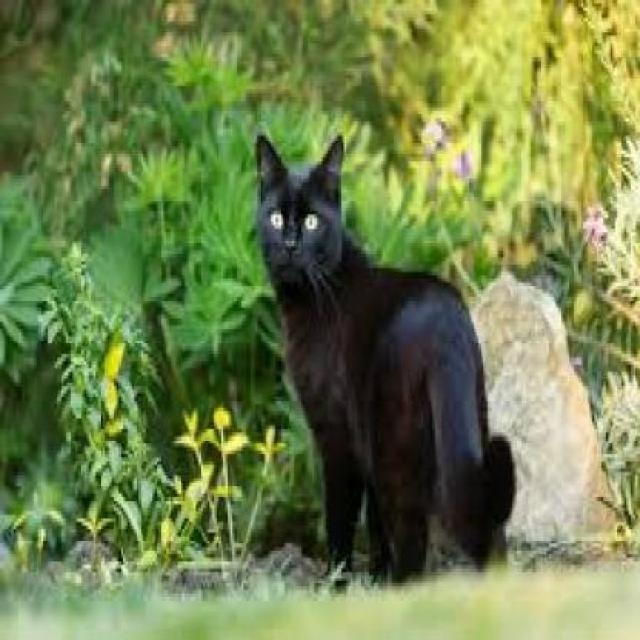animals: (246, 132, 522, 597)
